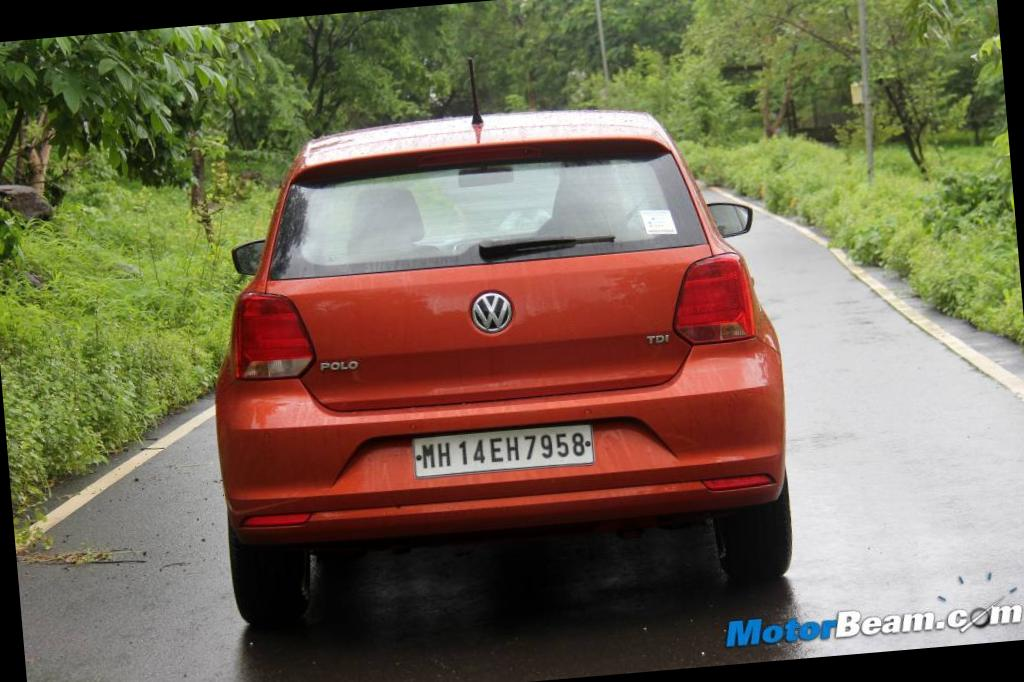plate: (404, 413, 609, 492)
